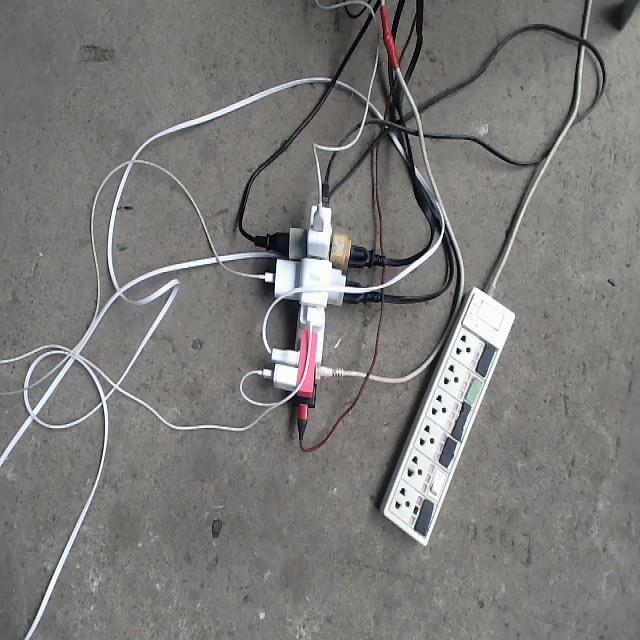-: (250, 181, 375, 440)
